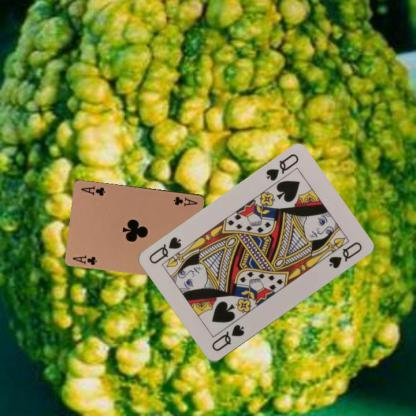Ac: (171, 194, 199, 208), (70, 252, 98, 266)
Qs: (263, 152, 300, 184), (209, 322, 246, 353)
